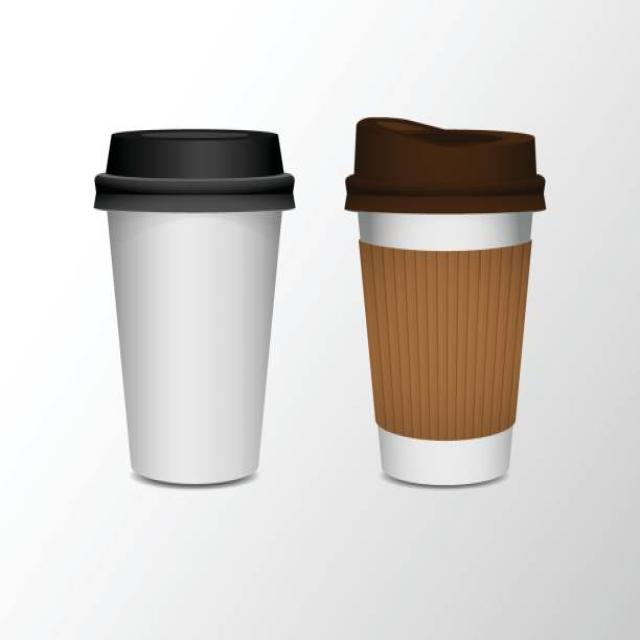cup: (340, 111, 556, 491), (88, 118, 300, 494)
